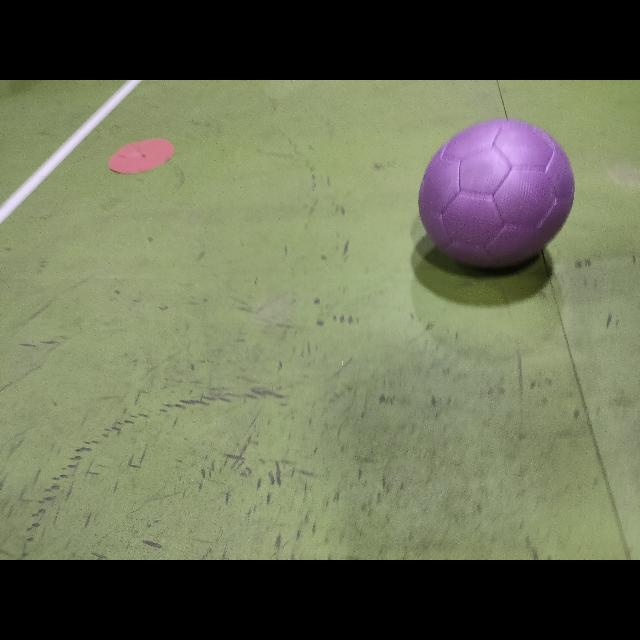P: (418, 119, 574, 268)
